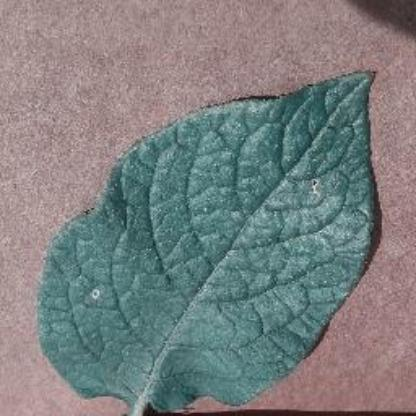Healthy-plant: (24, 56, 384, 416)
